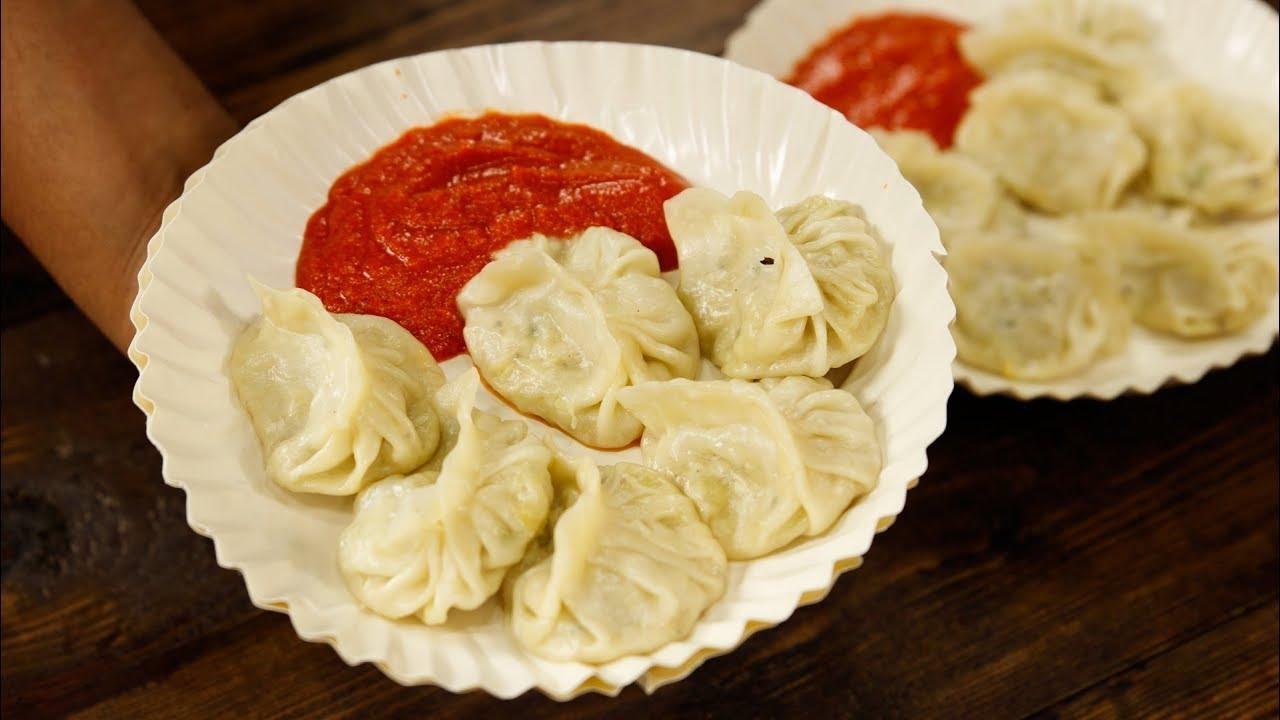momos: (338, 370, 552, 625), (458, 228, 700, 448), (621, 378, 882, 560), (502, 455, 728, 661), (230, 280, 445, 494), (665, 188, 898, 379)
